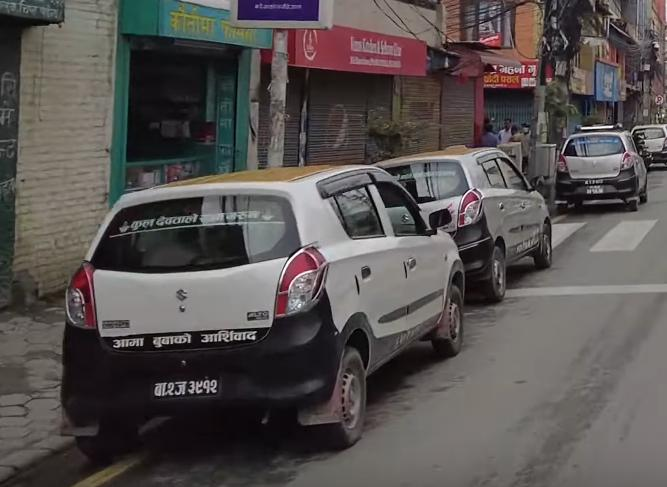taxi: (50, 153, 469, 453), (358, 132, 567, 302), (555, 121, 650, 214)
